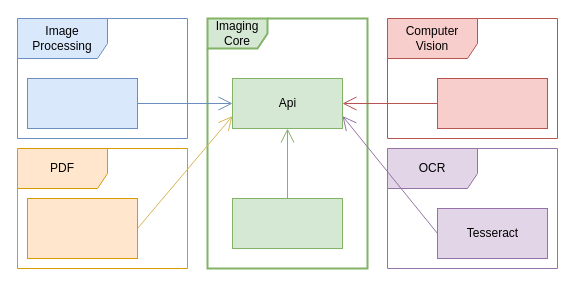
Some shapes in this 575 by 286 pixel diagram are drawn without their labels. The shapes that lost their labels are listed below. From the top down, each one's centre as x and y in pixels, then its label:
the point at 82,103: OpenCV
the point at 492,103: Microsoft Cognitive Services
the point at 82,228: PDFBox
the point at 287,223: Core
